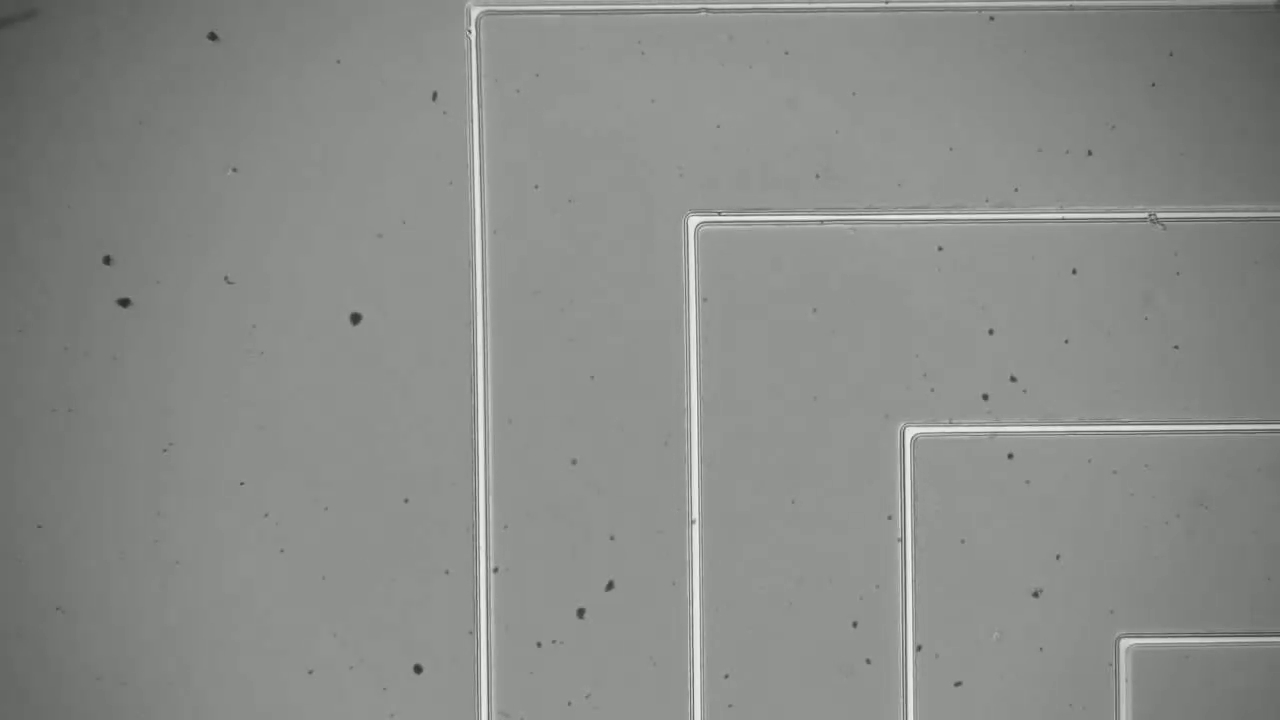stains_enbedded: (1143, 204, 1174, 236)
